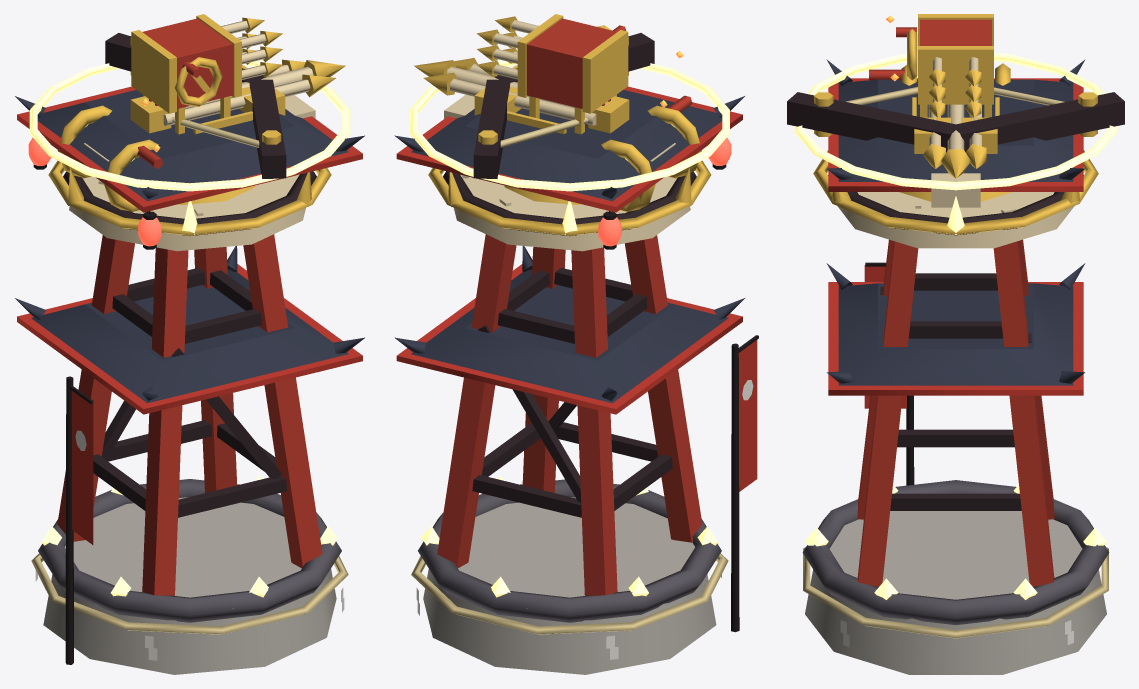
Rendered from tower_ballista_boltStorm_ultimate.glb.
3 views of the same model, side by side, from view 1: azimuth 30°, elevation 25°; view 2: azimuth 150°, elevation 25°; view 3: azimuth 270°, elevation 25° (orthographic).
Visible parts, largest first — view 1: base, deco_eave_1_roof, deco_eave_0_roof, leg_wn, base_rim, leg_en, deck, deco_eave_1_rim, ult_halo, leg_ws, deco_eave_0_rim, magazine (+30 smaller); view 2: base, deco_eave_1_roof, deco_eave_0_roof, leg_ws, base_rim, leg_es, leg_wn, deck, deco_eave_1_rim, magazine, ult_halo, deco_eave_0_rim (+28 smaller); view 3: base, deco_eave_1_roof, base_rim, deco_eave_0_roof, leg_en, leg_es, deck, deco_eave_1_rim, ult_halo, bow_arm_l, bow_arm_r, magazine_band_f (+20 smaller).
Boxes of the visible parts, x1,y1,x2,y2 form: base: (43,497,336,674); deco_eave_1_roof: (31,269,348,403); deco_eave_0_roof: (37,90,348,201); leg_wn: (142,247,188,595); base_rim: (38,479,341,622); leg_en: (243,234,322,568); deck: (69,174,305,251); deco_eave_1_rim: (17,264,362,414); ult_halo: (29,60,350,191); leg_ws: (57,235,134,541); deco_eave_0_rim: (17,65,362,212); magazine: (142,18,232,108); base: (423,497,716,674); deco_eave_1_roof: (411,269,728,403); deco_eave_0_roof: (411,90,722,201); leg_ws: (571,247,617,595); base_rim: (418,479,721,622); leg_es: (437,234,516,567); leg_wn: (624,235,702,542); deck: (454,174,690,251); deco_eave_1_rim: (396,264,742,414); magazine: (526,18,616,108); ult_halo: (409,60,729,191); deco_eave_0_rim: (396,65,742,212); base: (805,511,1106,674); deco_eave_1_roof: (838,283,1073,385); base_rim: (802,480,1109,624); deco_eave_0_roof: (838,79,1073,181); leg_en: (857,241,918,586); leg_es: (993,241,1054,586); deck: (837,192,1074,248); deco_eave_1_rim: (828,282,1083,395); ult_halo: (794,53,1117,190); bow_arm_l: (787,92,959,152); bow_arm_r: (953,92,1124,151); magazine_band_f: (918,46,993,104).
Bounding box in the file's own units: 0.4662 × 0.848 × 0.4469.
